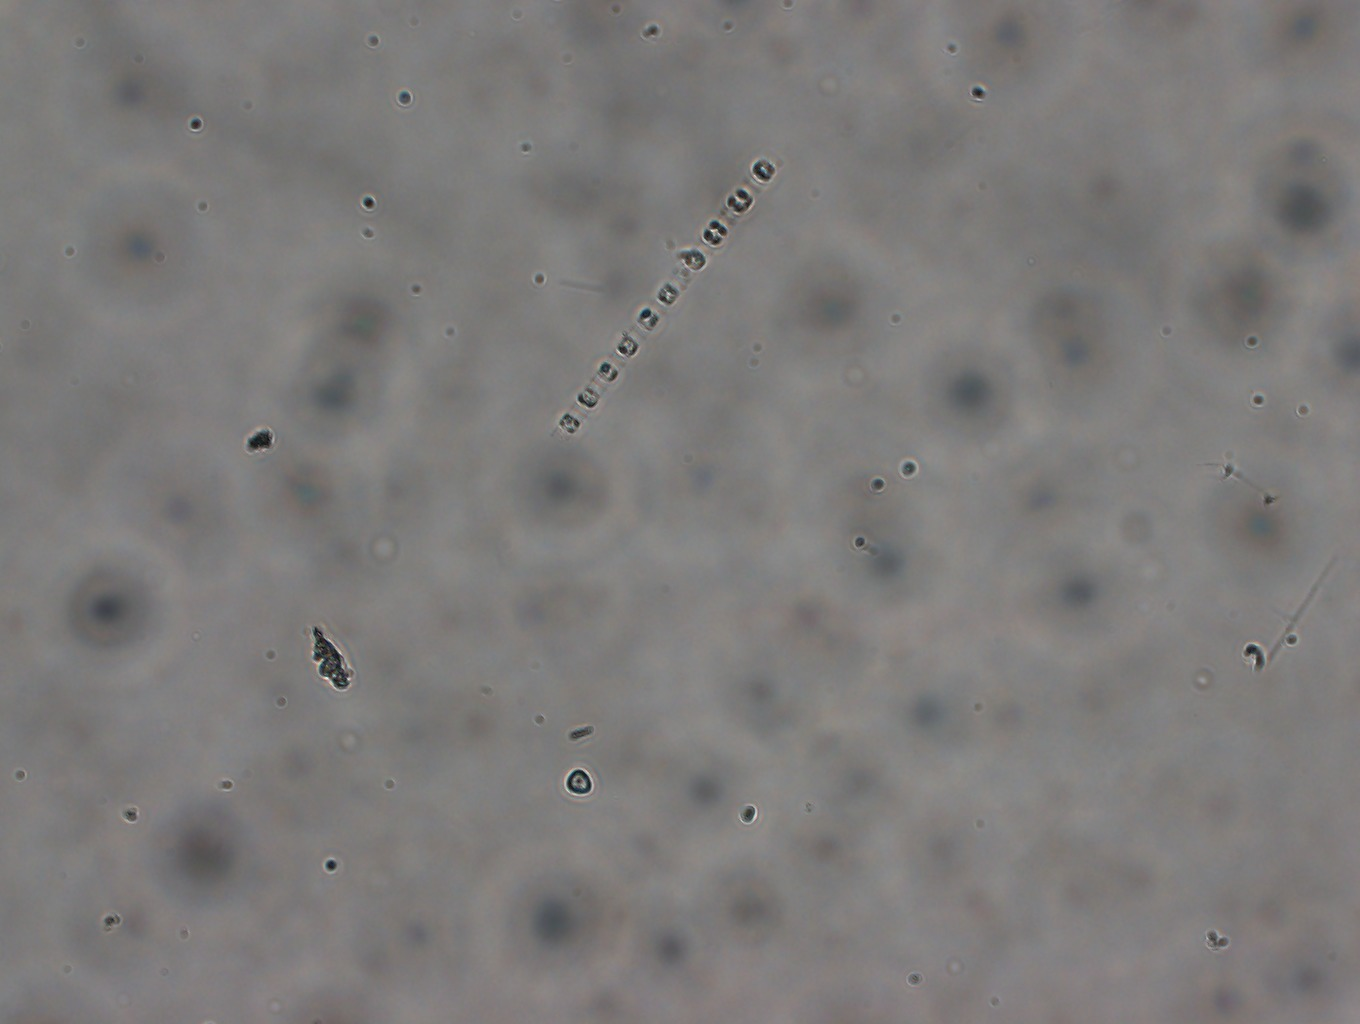skeletonema: (531, 140, 790, 458)
